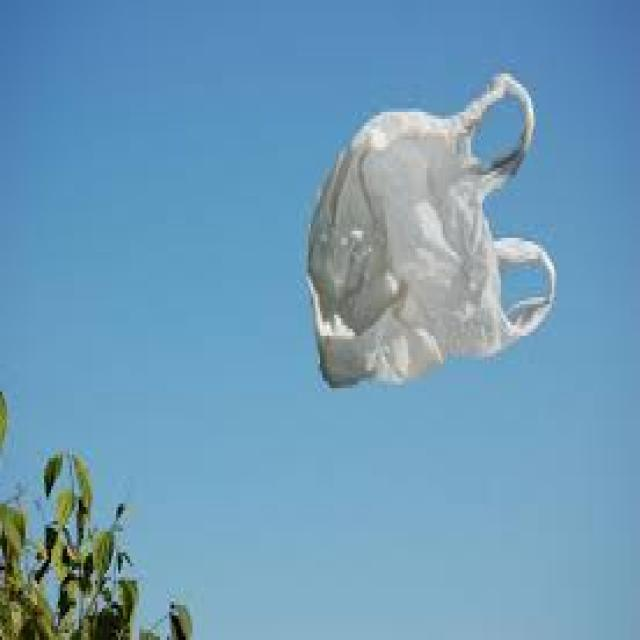plastic: (306, 66, 554, 385)
